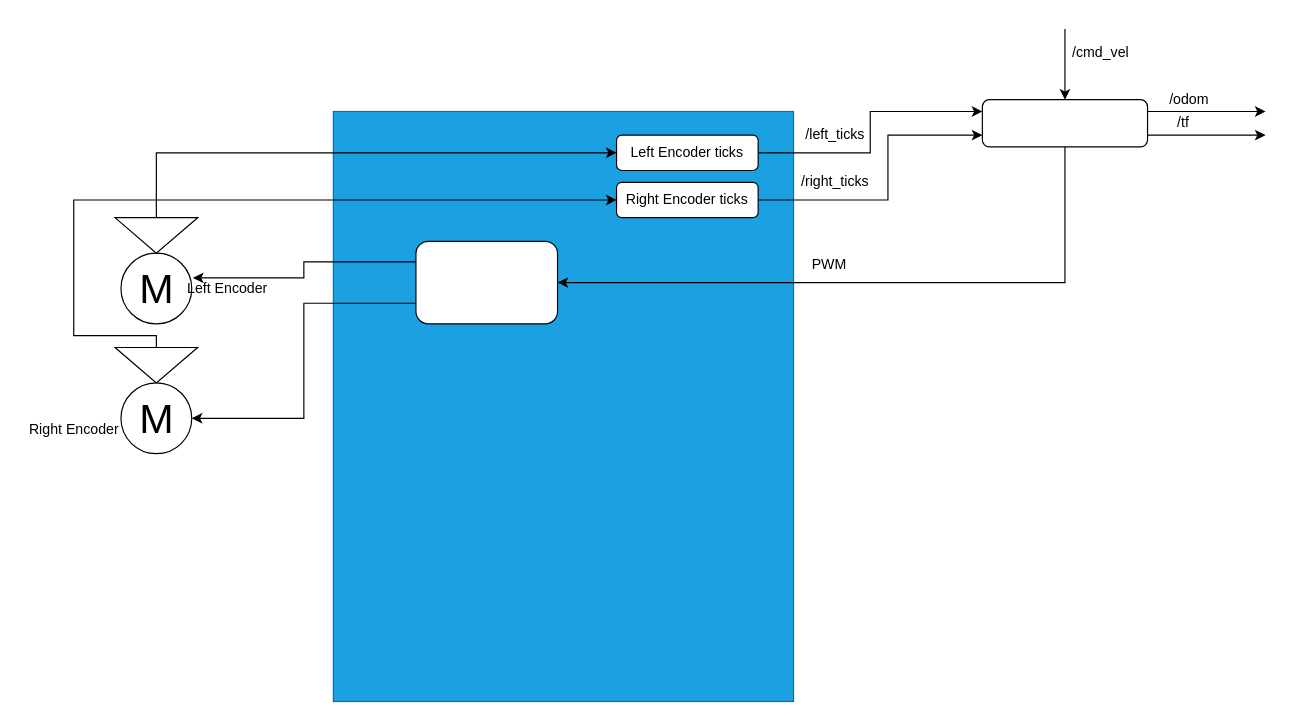
Some shapes in this 1296 by 722 pixel diagram are drawn without their labels. Here are the shapes that lost their labels. From the top down, the centre of each, then its label:
At (1064,123): "diff_drive_controller".
At (486,282): "Motor Controller".
